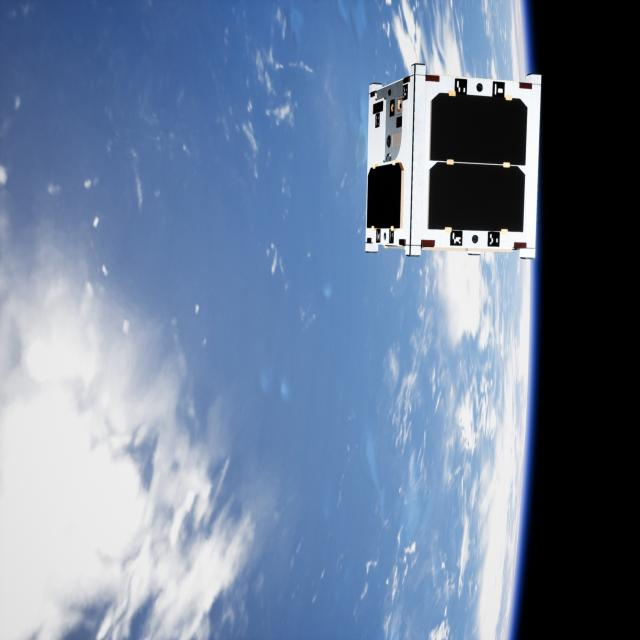satellite: (362, 61, 544, 270)
